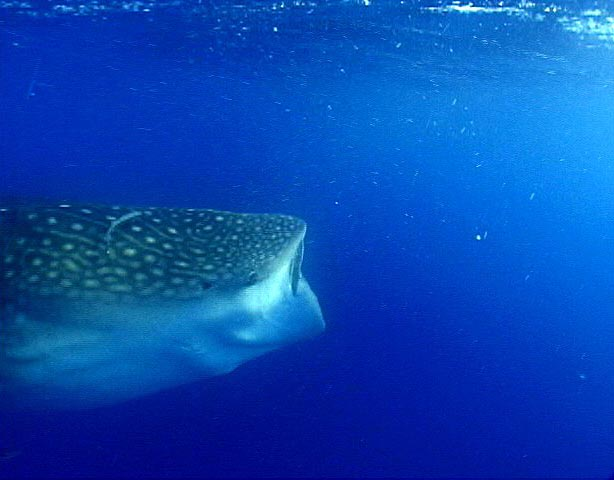Rhincodon_typusw: (1, 184, 345, 431)
